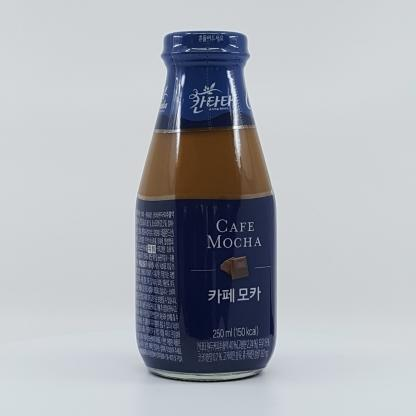------------250ML: (135, 31, 277, 381)
